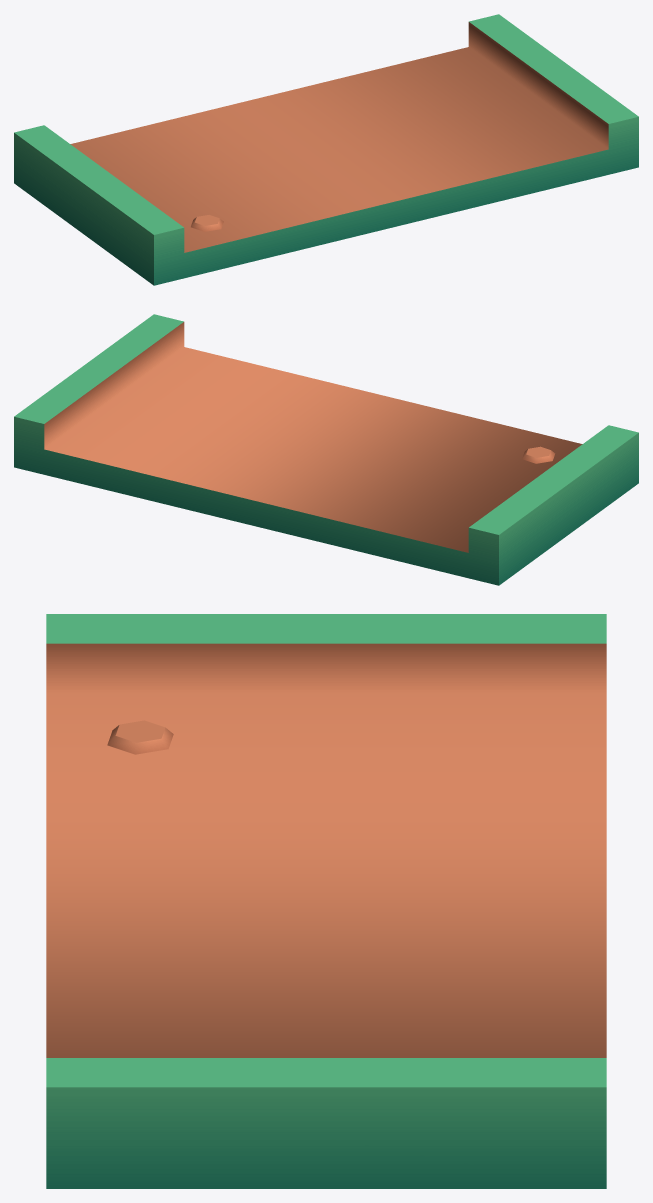
The model's file is tile-wide-straight.fbx.
3 views of the same model, one above another, from view 1: azimuth 30°, elevation 25°; view 2: azimuth 150°, elevation 25°; view 3: azimuth 270°, elevation 25° (orthographic). The views are drawn at different scales.
Visible parts, largest first — view 1: tile-wide-straight; view 2: tile-wide-straight; view 3: tile-wide-straight.
Part boxes in pixels (x1,y1,x2,y2): tile-wide-straight: [14, 14, 638, 285]; tile-wide-straight: [14, 314, 638, 585]; tile-wide-straight: [46, 614, 606, 1188].
Bounding box in the file's own units: 200 × 20 × 100.
